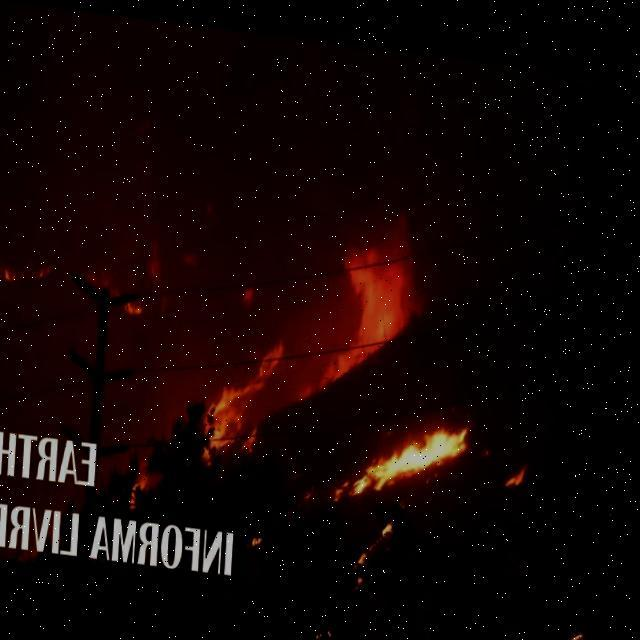Fire: (206, 330, 290, 460), (366, 402, 475, 488), (356, 488, 412, 584), (84, 255, 154, 312), (0, 245, 59, 288), (506, 445, 536, 481)
